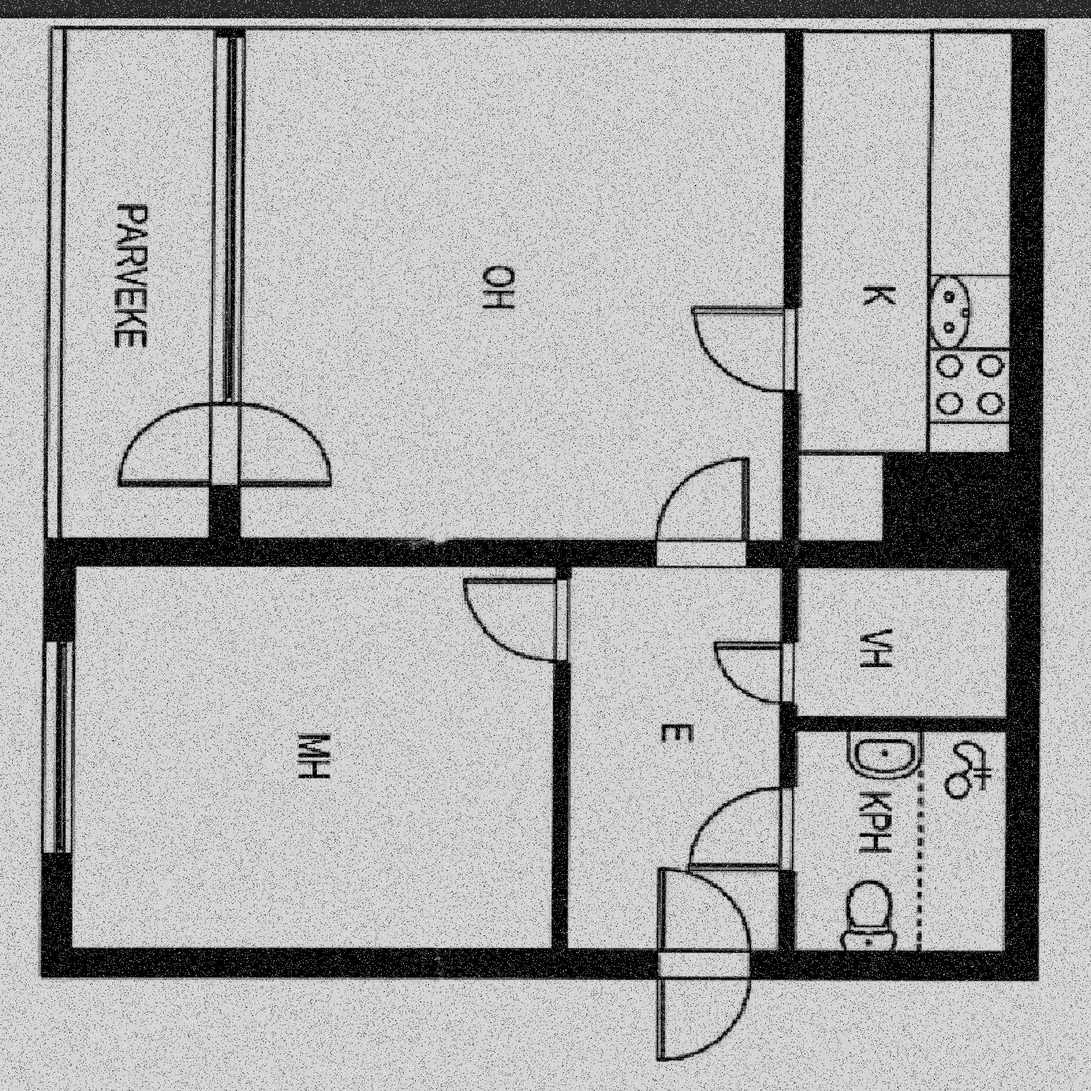wall: (1001, 4, 1032, 979), (47, 950, 1032, 978), (214, 4, 1032, 32), (245, 539, 1032, 567), (214, 4, 245, 567), (787, 4, 804, 979), (47, 539, 76, 979), (883, 452, 1001, 539), (555, 539, 571, 979), (47, 539, 245, 567), (51, 4, 214, 31), (787, 717, 1032, 731)
